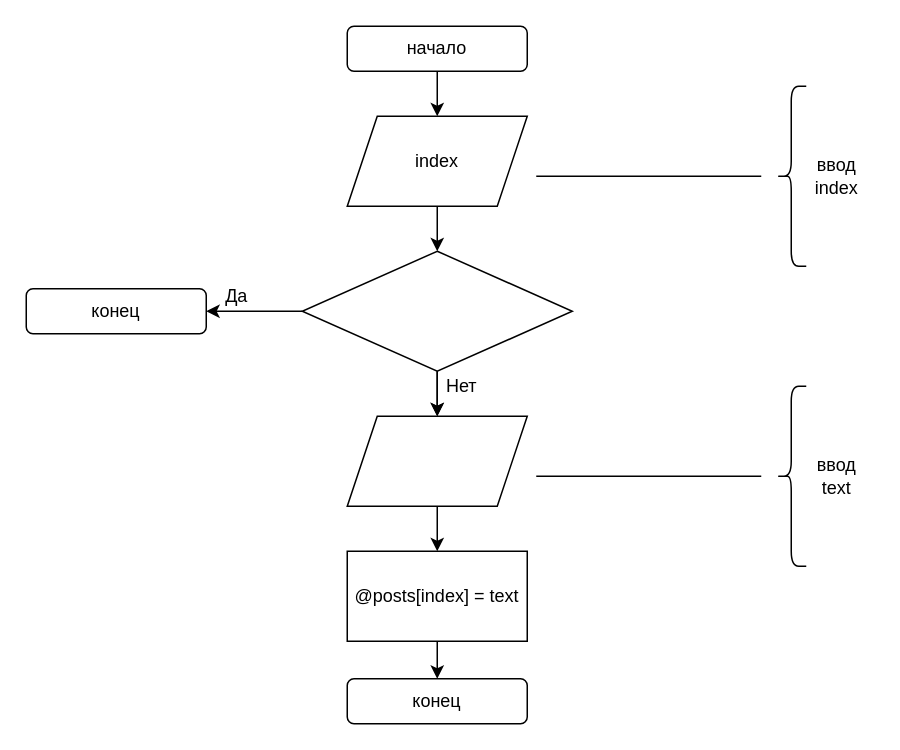
Image size: 900x750. Some labels were removed from this diagram. The shapes that lost their labels are listed below. From the top down, each one's box as (x1, y1, x2, y2) in pixels, then its label:
(301, 250, 572, 371): index < 0 || index > @posts.length
(346, 415, 527, 506): text
